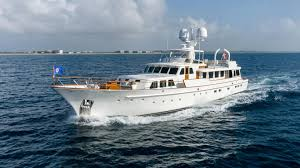boat: (49, 24, 248, 122)
